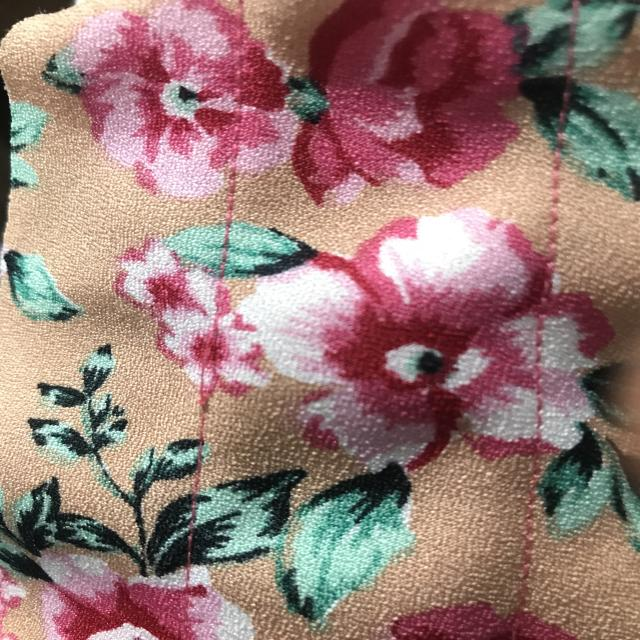good: (529, 322, 560, 427)
skip: (176, 289, 244, 428)
